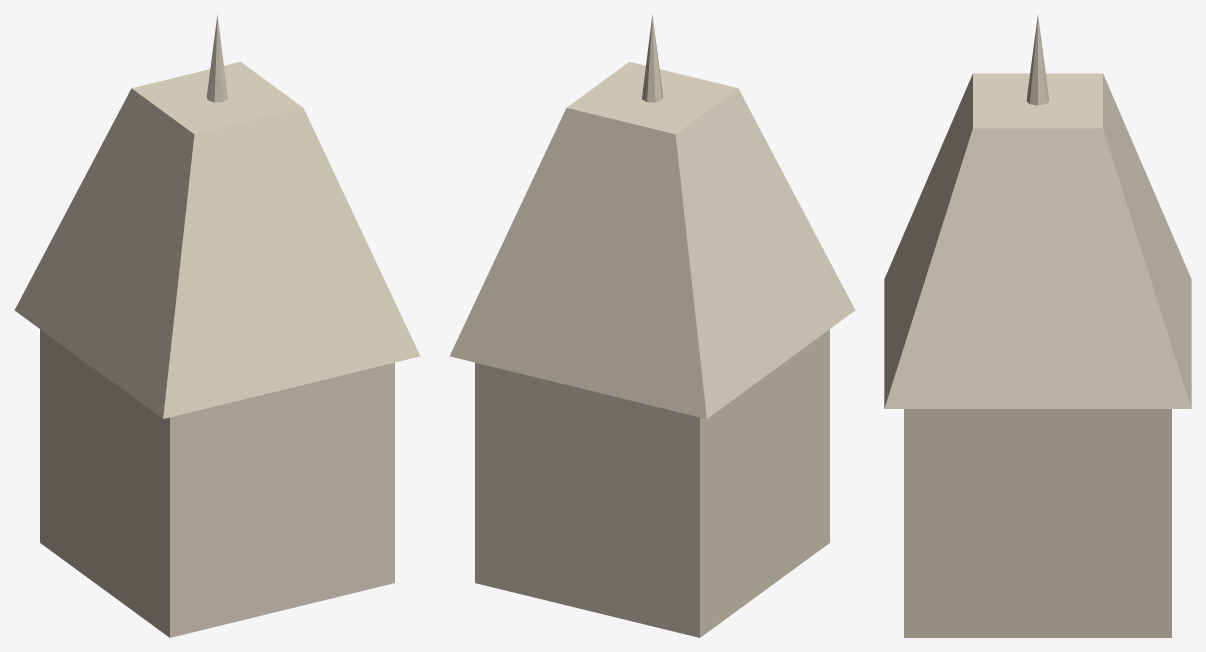
File: accent_fr.glb
3 renders of one model, left to right at view 1: azimuth 30°, elevation 25°; view 2: azimuth 150°, elevation 25°; view 3: azimuth 270°, elevation 25°, orthographic. The views are drawn at different scales.
Visible parts, largest first — view 1: Fort_Accent_fr; view 2: Fort_Accent_fr; view 3: Fort_Accent_fr.
Part boxes in pixels (x1,y1,x2,y2): Fort_Accent_fr: (14,14,419,637); Fort_Accent_fr: (450,14,855,637); Fort_Accent_fr: (884,15,1191,637).
Size of the model in its own units: 1.2 by 2.45 by 1.2.
